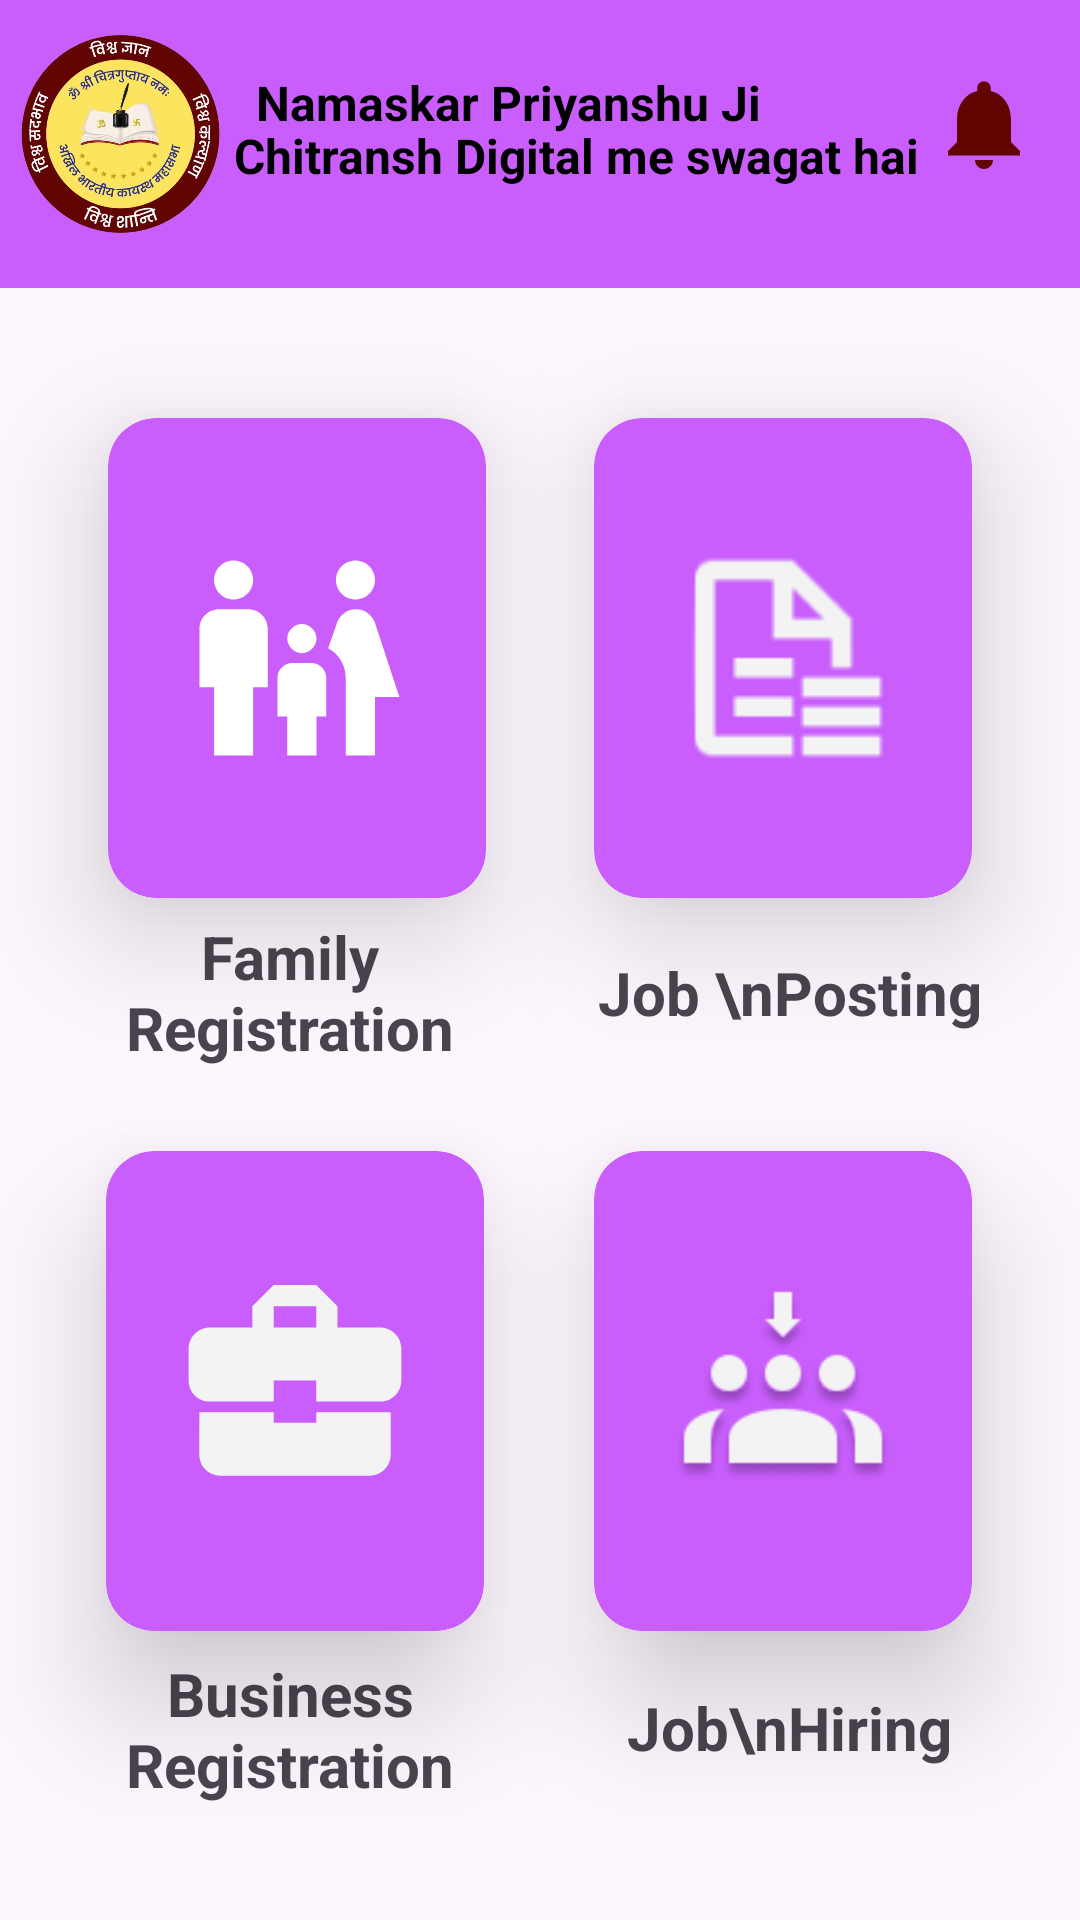

Named icons in this screenshot (1080px x 1920px) and their bounding boxes, (x1, y1, x2, y2):
hire me: (683, 1291, 883, 1473)
notifications: (948, 81, 1020, 169)
